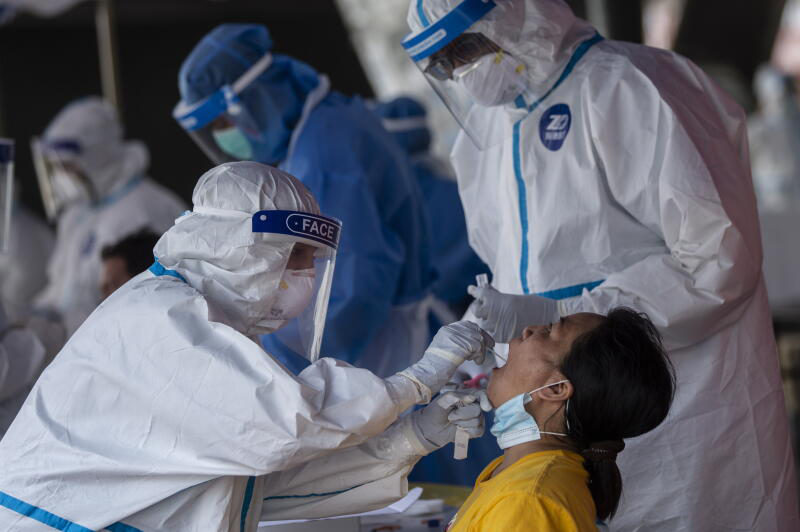Coverall: (2, 160, 417, 532), (404, 1, 794, 311)
Gloves: (398, 319, 495, 402), (411, 388, 493, 453), (469, 284, 555, 342)
mask_weared_incorrect: (485, 305, 572, 452)
with_mask: (450, 44, 534, 113), (269, 256, 326, 319), (213, 113, 260, 158)
